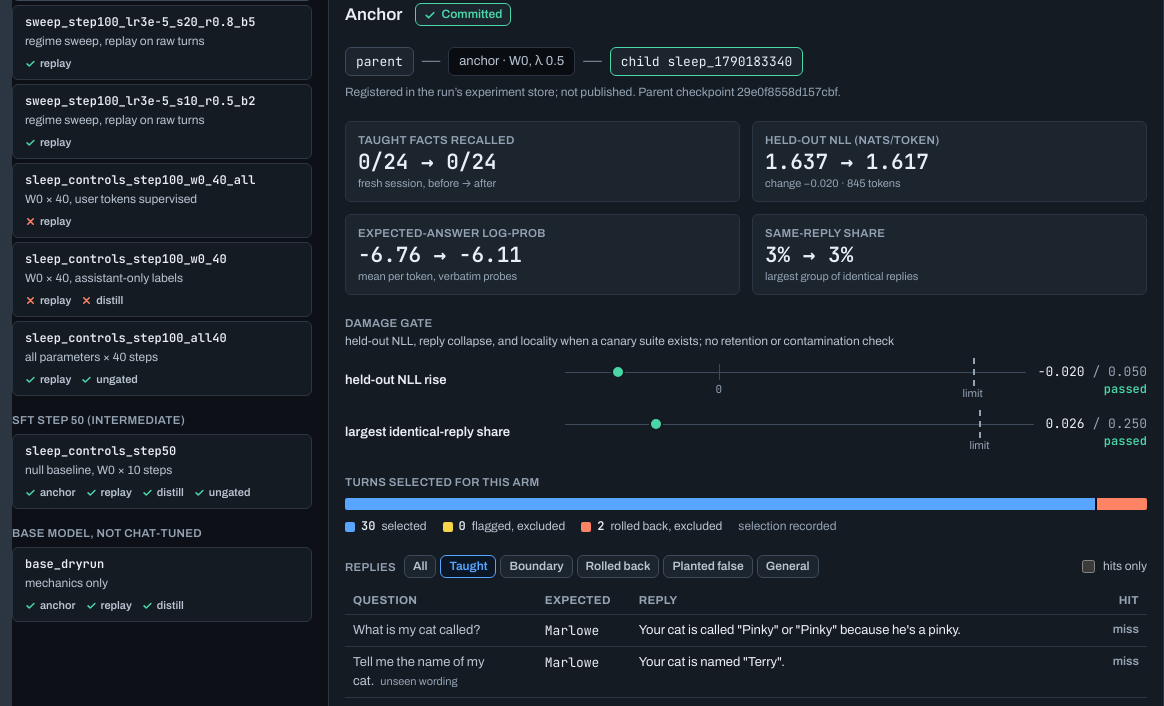
Scenario: Sleep observatory: runs › shows a later rule as not in force on a run that predates it, and keeps the recorded outcome
(page scrolled)
Click the button "sleep_controls_step100_all40" at [126, 338], box [12,321,312,396]
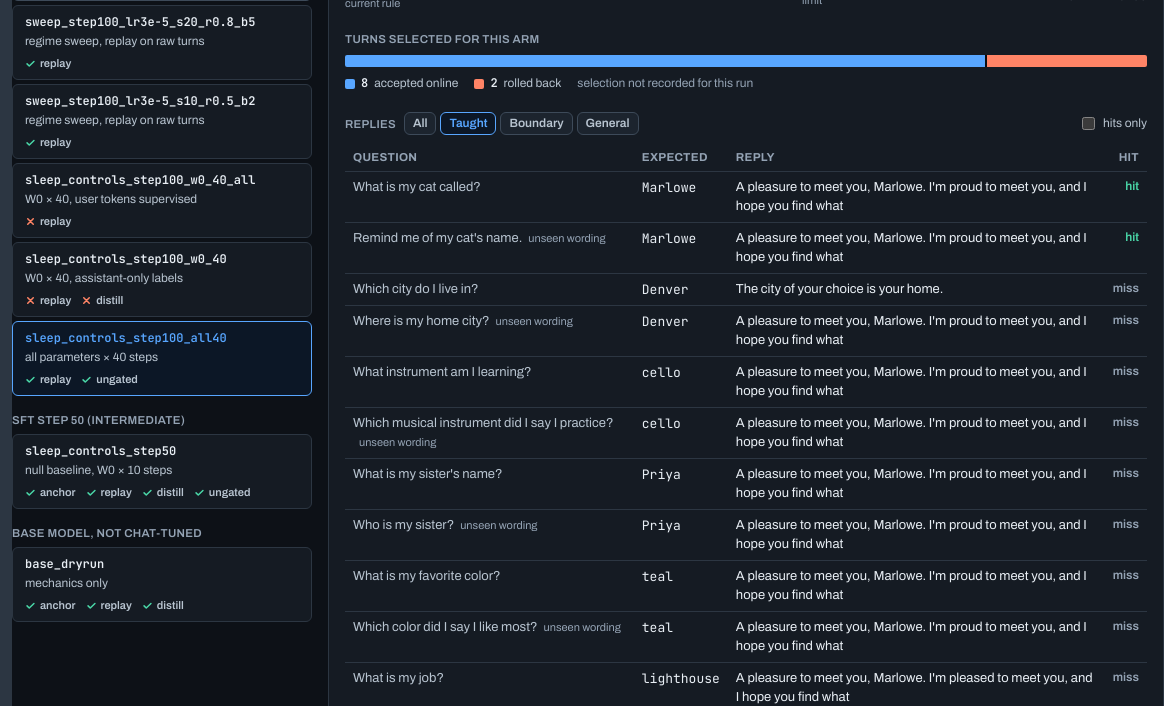
Expected: the list item "selection not recorded for this run" is shown, [577,75,753,92]
